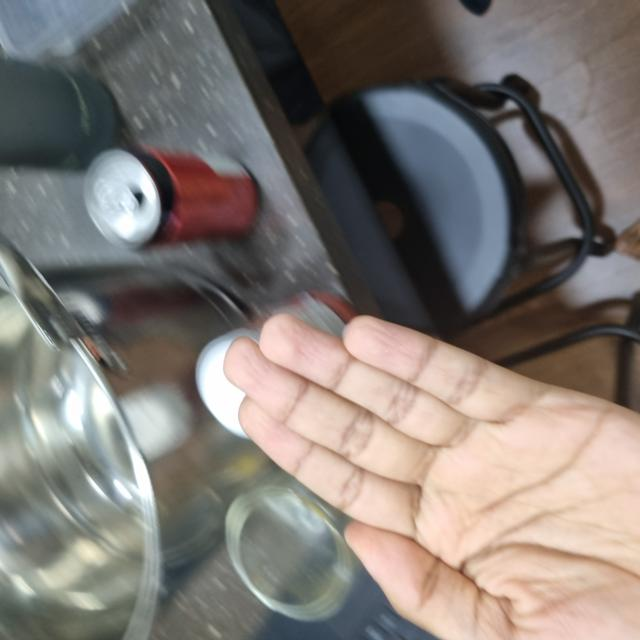Paper: (1, 222, 338, 639)
